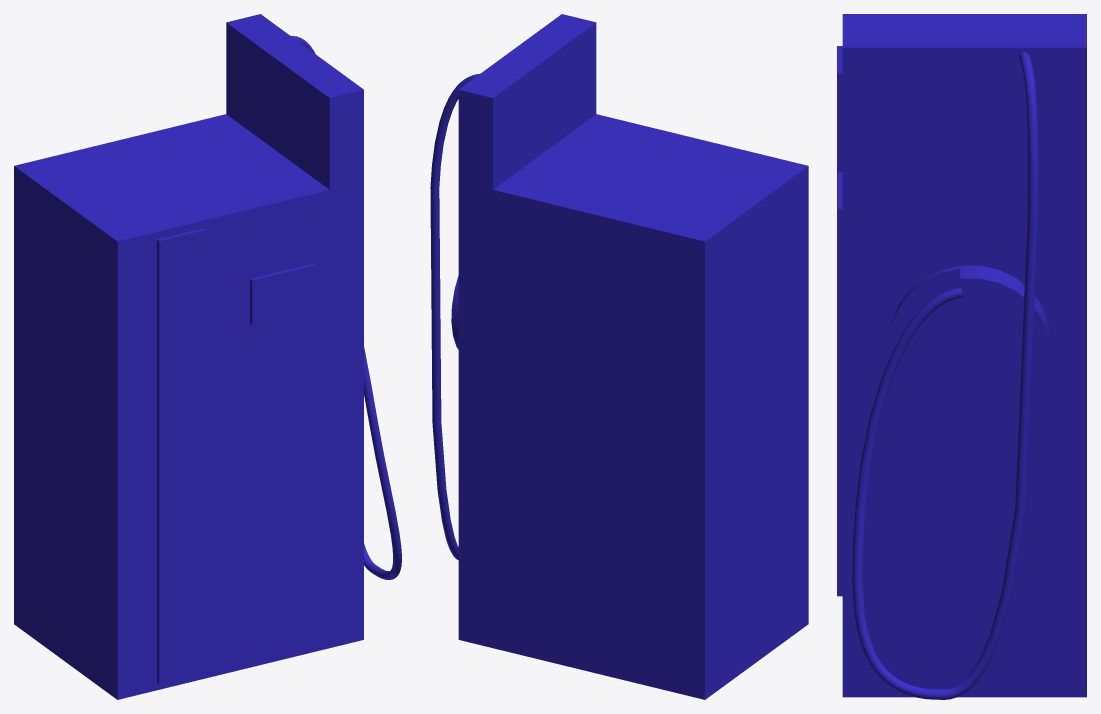
File: Cargador Electrico 1.fbx
The picture shows the model from 3 angles, left to right: view 1: azimuth 30°, elevation 25°; view 2: azimuth 150°, elevation 25°; view 3: azimuth 270°, elevation 25°; orthographic projection. The views are drawn at different scales.
Parts seen in each view (by area): view 1: Cargador_Electrico, Panel_Largo, Monitor, Manguera; view 2: Cargador_Electrico, Manguera; view 3: Cargador_Electrico, Cylinder_61, Manguera, Panel_Largo, Monitor.
Part boxes in pixels (box(x1,y1,x2,y2)): Cargador_Electrico: box(14, 14, 363, 699); Panel_Largo: box(157, 228, 206, 684); Monitor: box(250, 263, 315, 324); Manguera: box(291, 36, 401, 579); Cargador_Electrico: box(458, 14, 808, 699); Manguera: box(430, 74, 479, 560); Cargador_Electrico: box(842, 14, 1086, 697); Cylinder_61: box(890, 265, 1049, 422); Manguera: box(852, 52, 1038, 699); Panel_Largo: box(837, 46, 842, 596); Monitor: box(837, 172, 842, 261).
Size of the model in its own units: 1915 by 3331 by 1161.
